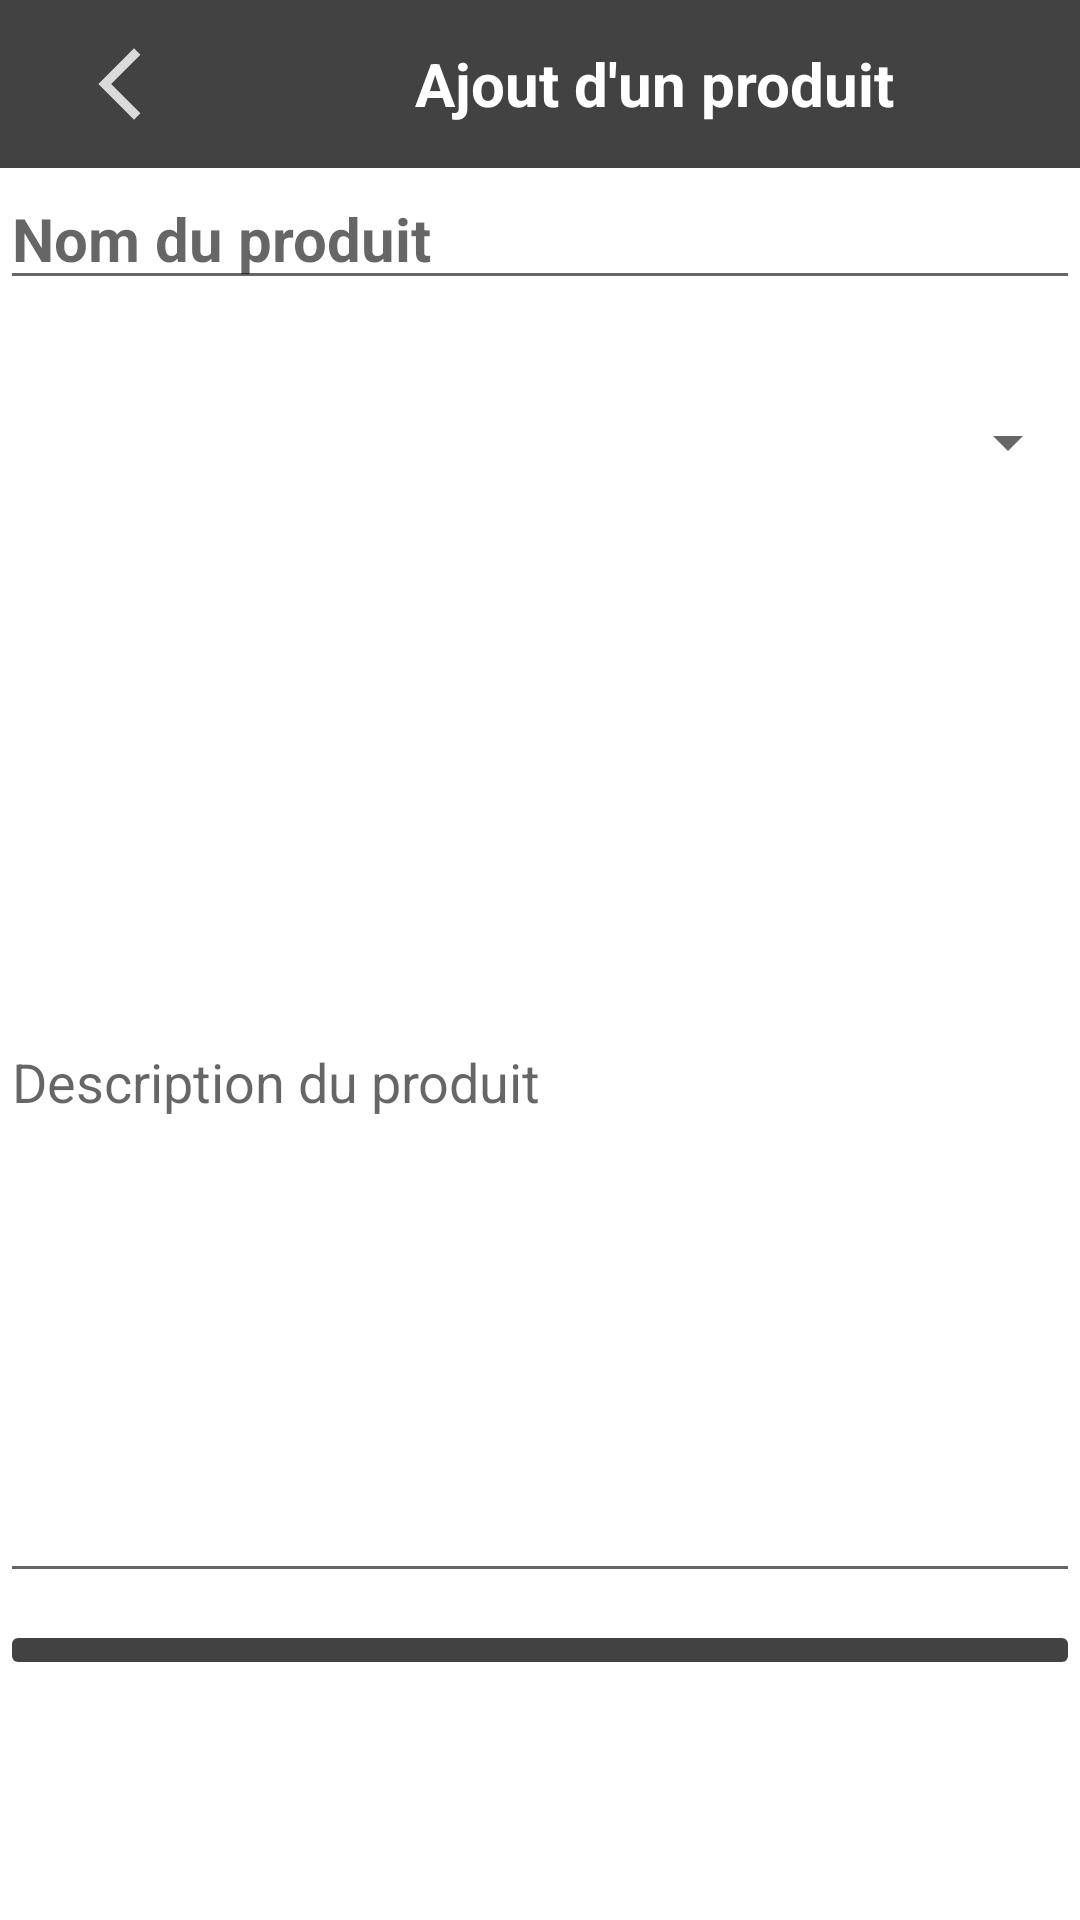

Named icons in this screenshot (1080 x 1920) and their centers, point (x, y):
retour: point (119, 84)
